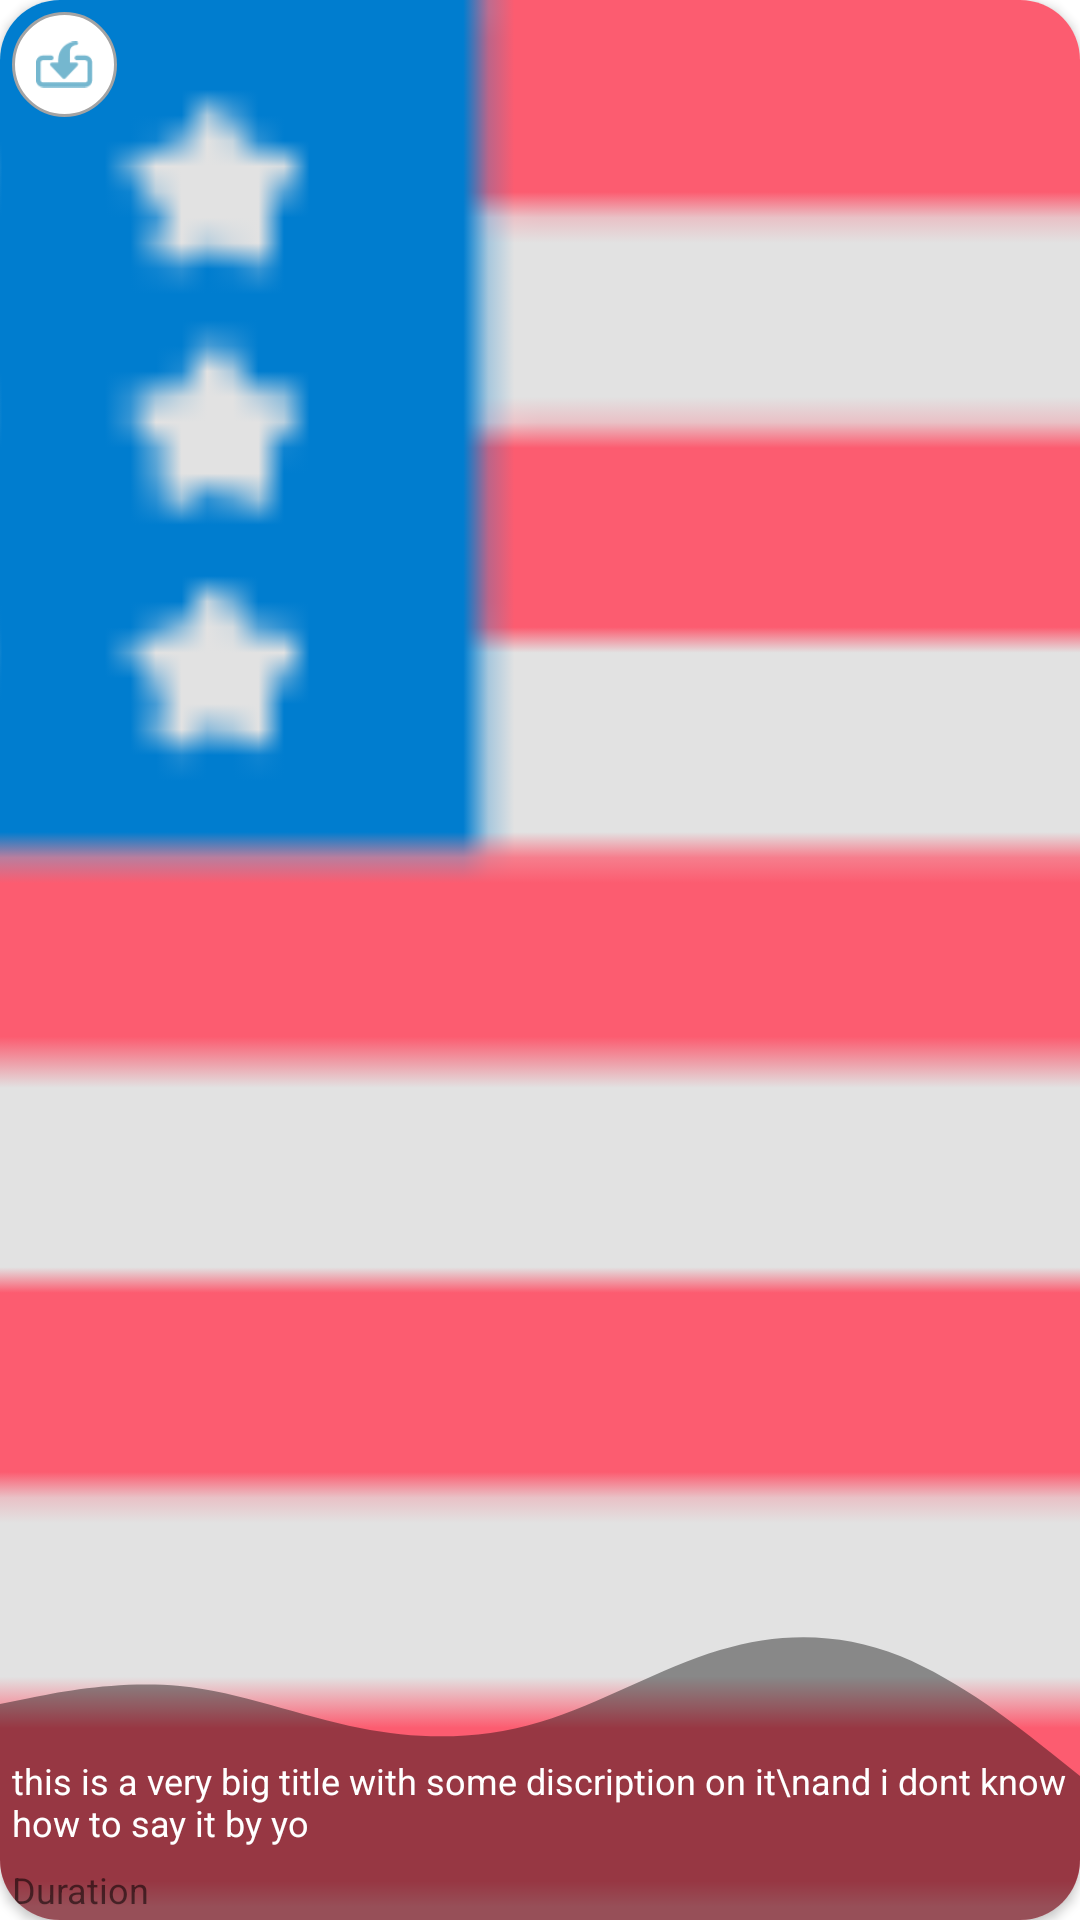

Icon click points for this 1080 x 1920 phone screenshot, format (x,y):
save: (64,64)
